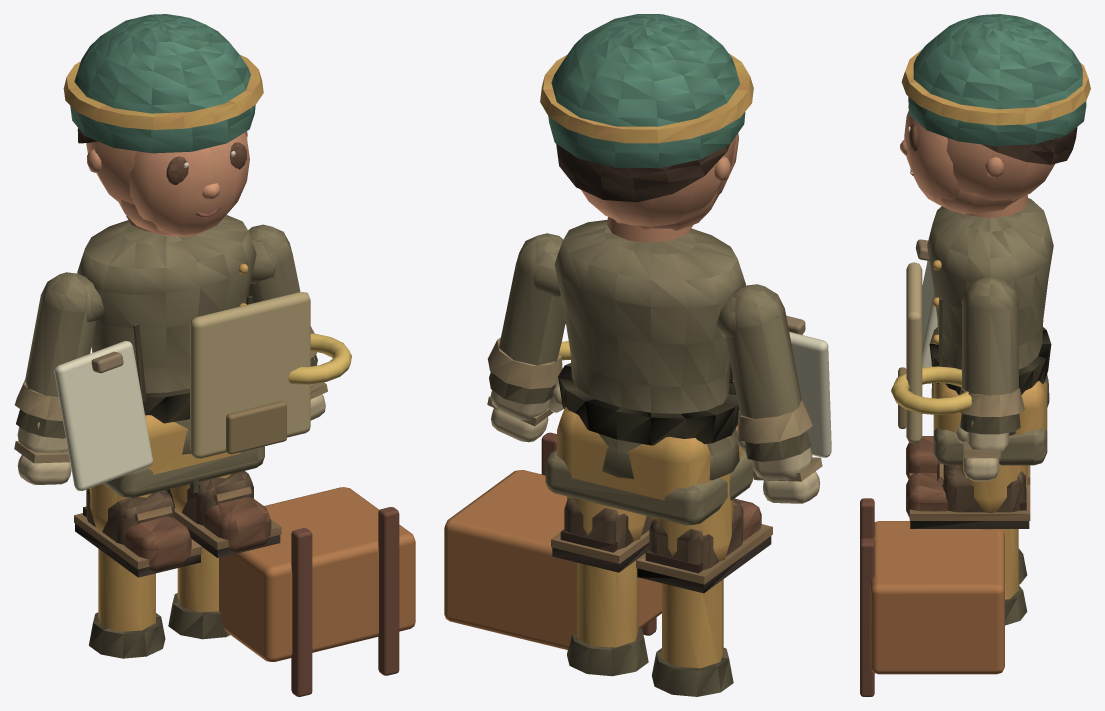
The model's file is han-seojun.m1.glb.
The picture shows the model from 3 angles, left to right: view 1: azimuth 30°, elevation 25°; view 2: azimuth 150°, elevation 25°; view 3: azimuth 270°, elevation 25°; orthographic projection. The views are drawn at different scales.
Visible parts, largest first — view 1: coat, legs, hat, cooperativeSampleCrate, sortingApron, figureDetail, cooperativeLedger, armLeftMesh, handLeftMesh, cooperativeCrateSlatRight, cooperativeCrateSlatLeft, armRightMesh (+4 smaller); view 2: coat, legs, hat, cooperativeSampleCrate, armLeftMesh, figureDetail, armRightMesh, trousers, handLeftMesh, handRightMesh, cooperativeLedger, neck; view 3: cooperativeSampleCrate, hat, coat, legs, figureDetail, armRightMesh, handRightMesh, sortingApron, qualitySampleRing, cooperativeCrateSlatRight, trousers, cooperativeLedger (+2 smaller).
Boxes of the visible parts, x1,y1,x2,y2 form: coat: (77, 215, 264, 497); legs: (74, 471, 281, 658); hat: (63, 14, 263, 153); cooperativeSampleCrate: (219, 487, 415, 661); sortingApron: (190, 292, 310, 458); figureDetail: (77, 128, 249, 236); cooperativeLedger: (54, 341, 152, 490); armLeftMesh: (16, 272, 104, 438); handLeftMesh: (14, 380, 71, 485); cooperativeCrateSlatRight: (378, 507, 399, 675); cooperativeCrateSlatLeft: (291, 528, 312, 696); armRightMesh: (248, 224, 317, 366); coat: (545, 220, 753, 525); legs: (551, 436, 772, 696); hat: (540, 14, 753, 167); cooperativeSampleCrate: (444, 470, 661, 649); armLeftMesh: (717, 284, 811, 461); figureDetail: (556, 133, 738, 230); armRightMesh: (489, 233, 565, 404); trousers: (557, 407, 742, 500); handLeftMesh: (736, 399, 822, 503); handRightMesh: (487, 337, 563, 442); cooperativeLedger: (789, 331, 831, 457); neck: (607, 217, 692, 242); cooperativeSampleCrate: (870, 521, 1004, 674); hat: (901, 14, 1090, 146); coat: (927, 198, 1053, 465); legs: (906, 436, 1030, 625); figureDetail: (900, 106, 1077, 214); armRightMesh: (960, 277, 1020, 434); handRightMesh: (956, 388, 1024, 481); sortingApron: (906, 262, 922, 443); qualitySampleRing: (891, 366, 971, 414); cooperativeCrateSlatRight: (860, 538, 874, 696); trousers: (933, 381, 1047, 434); cooperativeLedger: (922, 260, 937, 367).
Size of the model in its own units: 1.25 by 2.26 by 0.7881.
